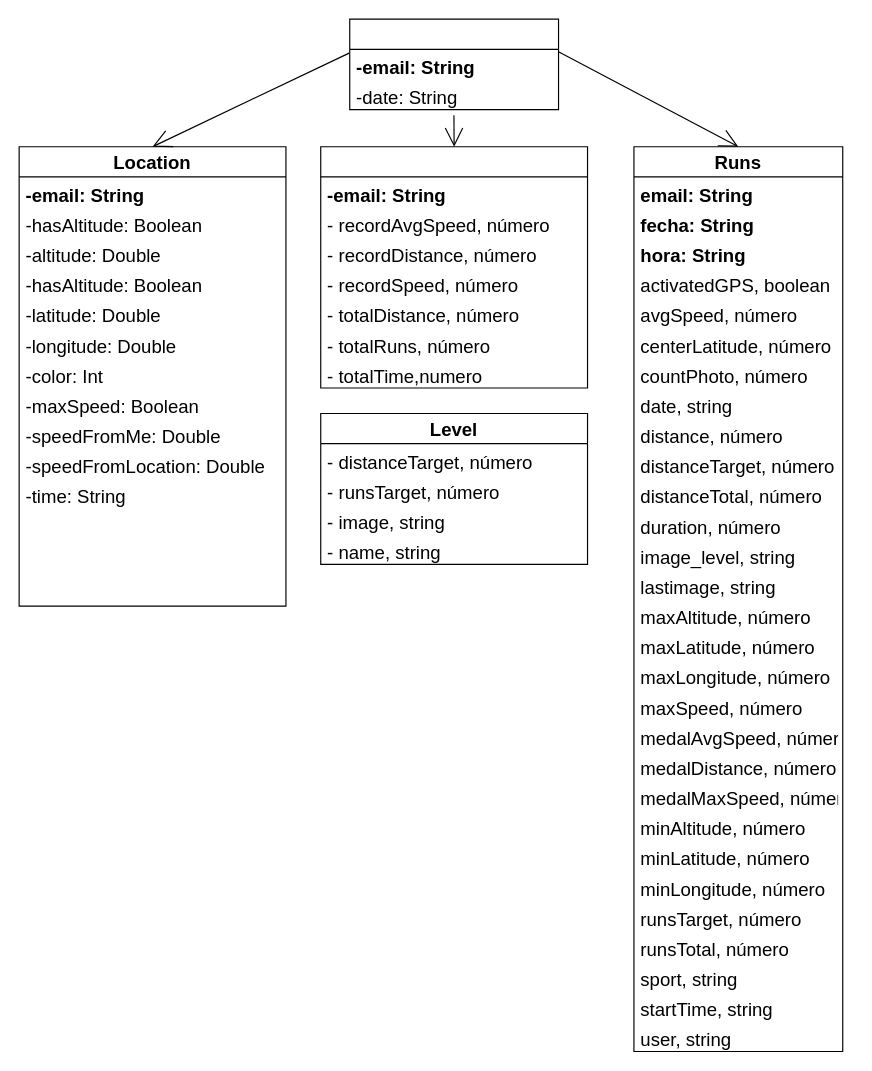
This 872x1071 diagram has some shape labels left out. Here are the shapes that lost their labels. From the top down, the box of each, then its label:
(349, 18, 559, 110): Users
(320, 146, 588, 388): Totals
